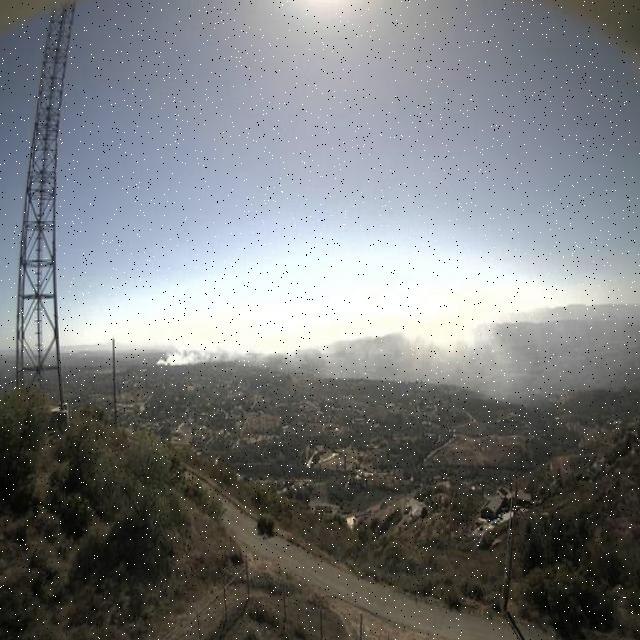smoke: (153, 298, 518, 396)
